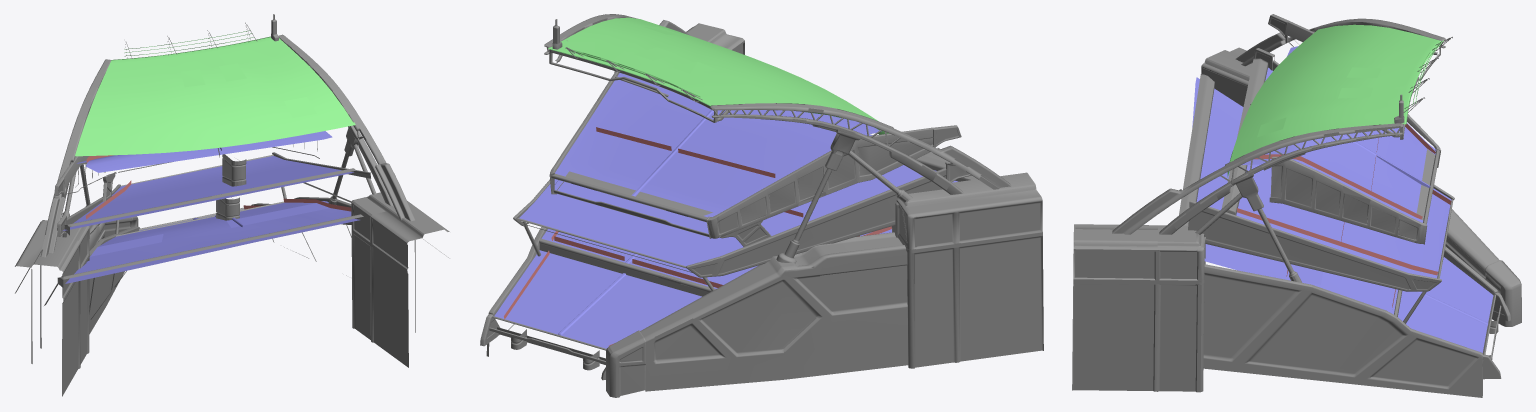
Rendered from CS_Stands_02.gltf.
3 renders of one model, left to right at view 1: azimuth 30°, elevation 25°; view 2: azimuth 150°, elevation 25°; view 3: azimuth 270°, elevation 25°, orthographic. The views are drawn at different scales.
Visible parts, largest first — view 1: CS_Stands_02; view 2: CS_Stands_02; view 3: CS_Stands_02.
Part boxes in pixels (box(x1,y1,x2,y2)): CS_Stands_02: box(15, 14, 449, 396); CS_Stands_02: box(480, 14, 1043, 397); CS_Stands_02: box(1072, 14, 1521, 397).
Size of the model in its own units: 182 by 123 by 172.
